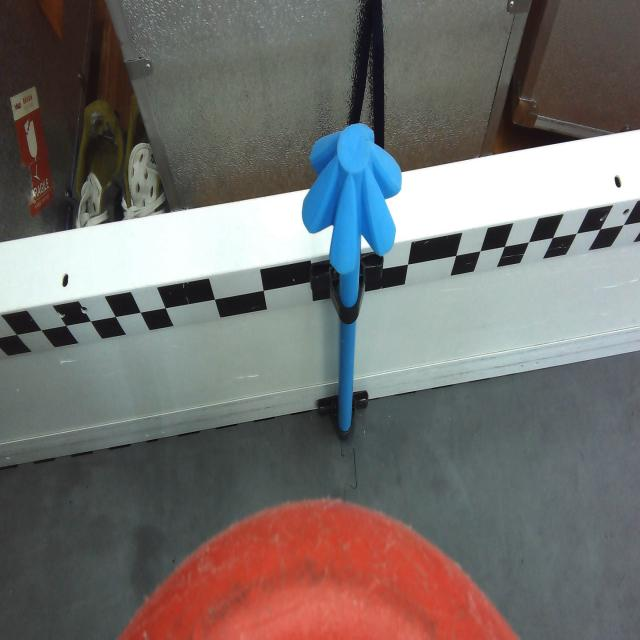zblue-Stake-Head: (303, 119, 402, 273)
